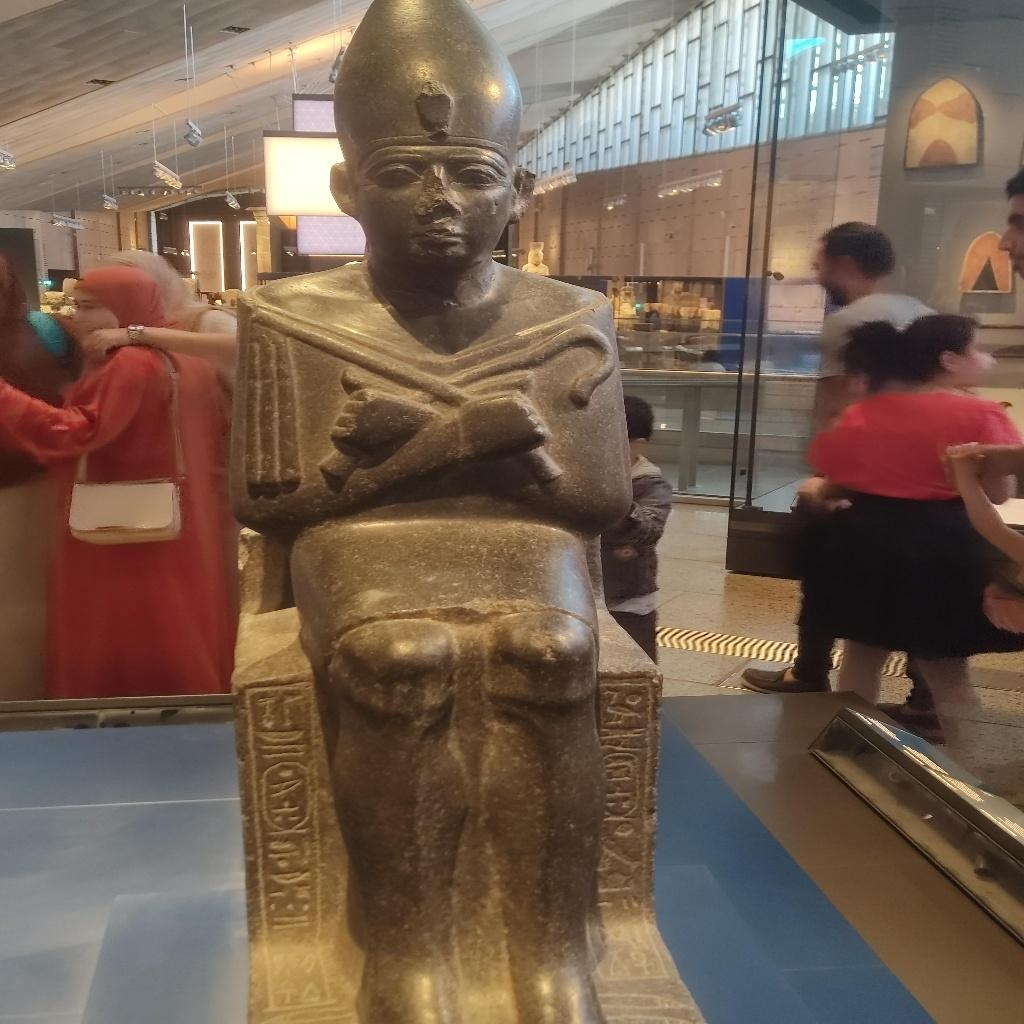Statue of Sobekhotep V: (220, 2, 678, 1020)
